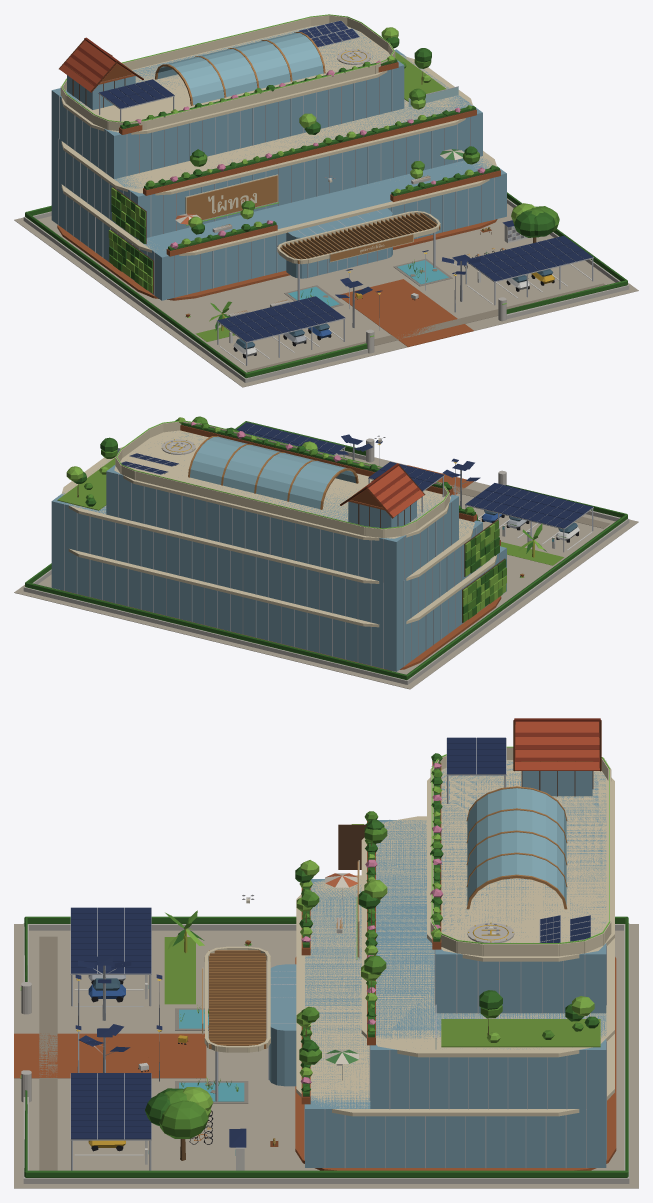
Rendered from store.glb.
3 renders of one model, top to bottom at view 1: azimuth 30°, elevation 25°; view 2: azimuth 150°, elevation 25°; view 3: azimuth 270°, elevation 25°, orthographic. The views are drawn at different scales.
Parts seen in each view (by area): view 1: body, windows; view 2: body, windows; view 3: body, windows.
Boxes of the visible parts, box(x1,y1,x2,y2) form: body: box(14, 15, 638, 387); windows: box(61, 14, 552, 349); body: box(14, 416, 638, 689); windows: box(116, 420, 577, 541); body: box(14, 718, 638, 1188); windows: box(20, 746, 610, 1155).
Size of the model in its own units: 47.9 by 20.89 by 47.9.
